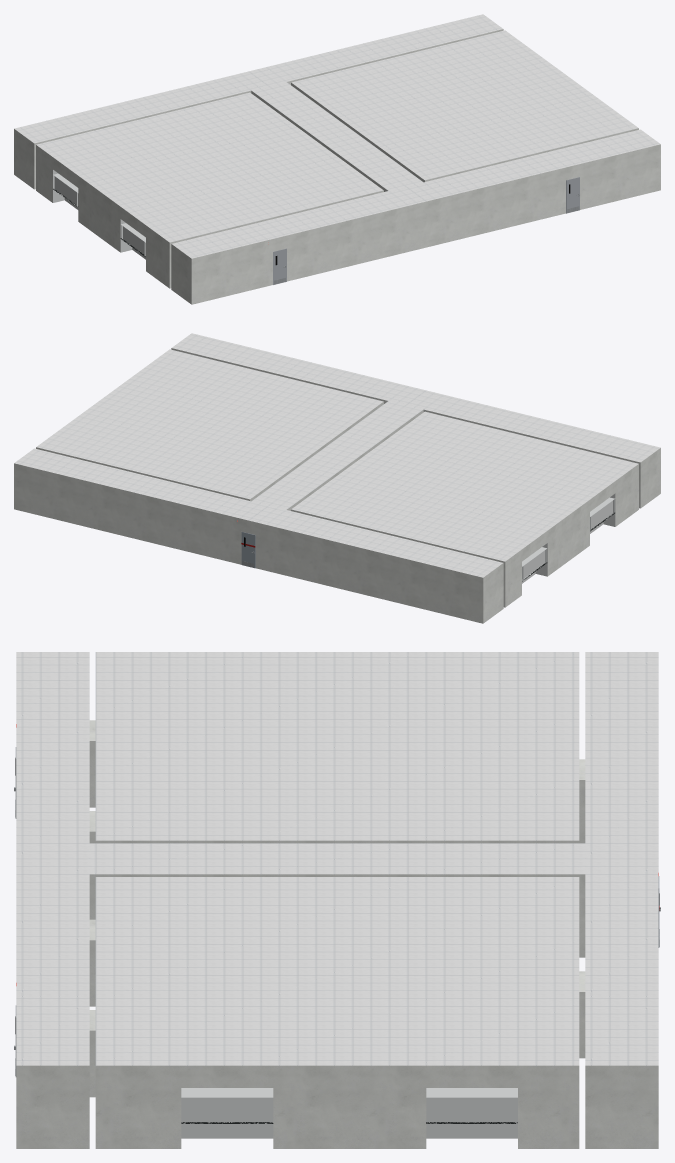
The model's file is labs_a.glb.
The picture shows the model from 3 angles, top to bottom: view 1: azimuth 30°, elevation 25°; view 2: azimuth 150°, elevation 25°; view 3: azimuth 270°, elevation 25°; orthographic projection. The views are drawn at different scales.
Parts seen in each view (by area): view 1: Ceiling_Tile, Wall_Lab, Plastic_White, DoorLeaf_corridors_a_west, DoorLeaf_corridors_a_east; view 2: Ceiling_Tile, Wall_Lab, Plastic_White, DoorLeaf_labs_b; view 3: Ceiling_Tile, Wall_Lab, Plastic_White.
Part boxes in pixels (x1=…): Ceiling_Tile: x1=14, y1=14, x2=660, y2=258; Wall_Lab: x1=14, y1=29, x2=660, y2=304; Plastic_White: x1=53, y1=170, x2=145, y2=259; DoorLeaf_corridors_a_west: x1=273, y1=248, x2=286, y2=284; DoorLeaf_corridors_a_east: x1=566, y1=177, x2=579, y2=213; Ceiling_Tile: x1=14, y1=333, x2=660, y2=577; Wall_Lab: x1=14, y1=348, x2=660, y2=623; Plastic_White: x1=522, y1=493, x2=615, y2=583; DoorLeaf_labs_b: x1=241, y1=532, x2=255, y2=568; Ceiling_Tile: x1=16, y1=652, x2=658, y2=1065; Wall_Lab: x1=16, y1=720, x2=658, y2=1148; Plastic_White: x1=181, y1=1088, x2=517, y2=1138.
Bounding box in the file's own units: 32 × 3 × 21.15.
28 materials, 8 textured.
